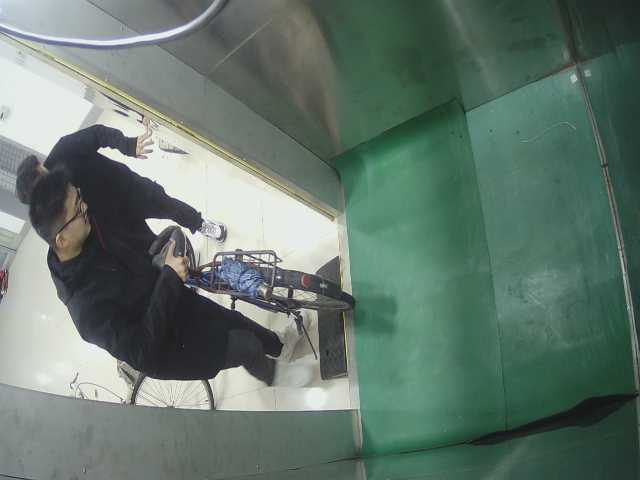bicycle: (146, 223, 368, 326), (45, 353, 224, 420)
person: (39, 180, 327, 400), (15, 122, 236, 270)
